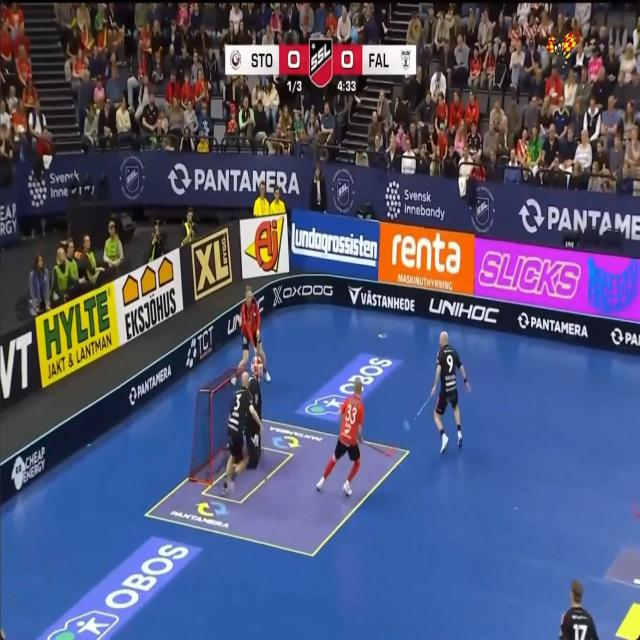player: (316, 379, 364, 496), (222, 371, 261, 494), (431, 331, 470, 452), (239, 285, 270, 382), (559, 580, 598, 639), (245, 414, 261, 469), (248, 356, 262, 417), (232, 376, 236, 385)
stick: (417, 390, 433, 416), (364, 441, 392, 455), (250, 331, 258, 356), (632, 502, 640, 518), (403, 420, 410, 430)
